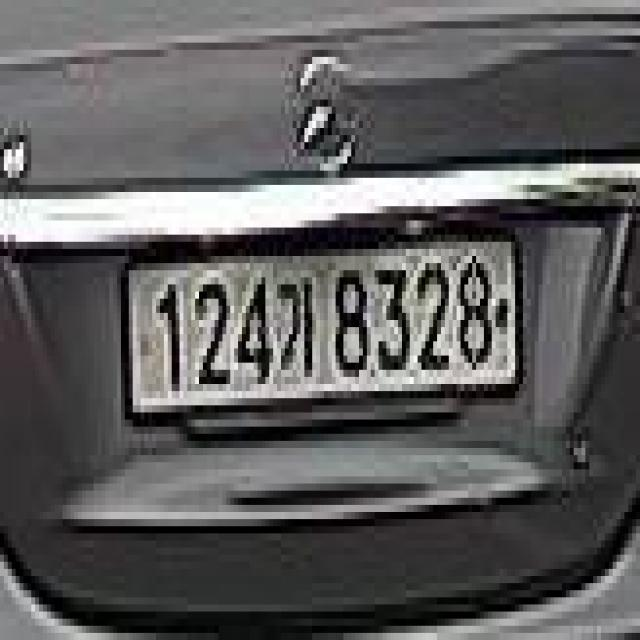illegal_plate: (113, 223, 530, 432)
